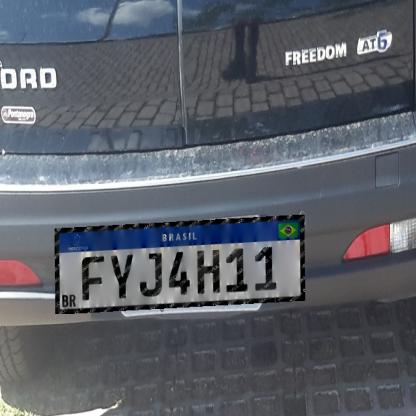PlacaM: (55, 215, 305, 314)
